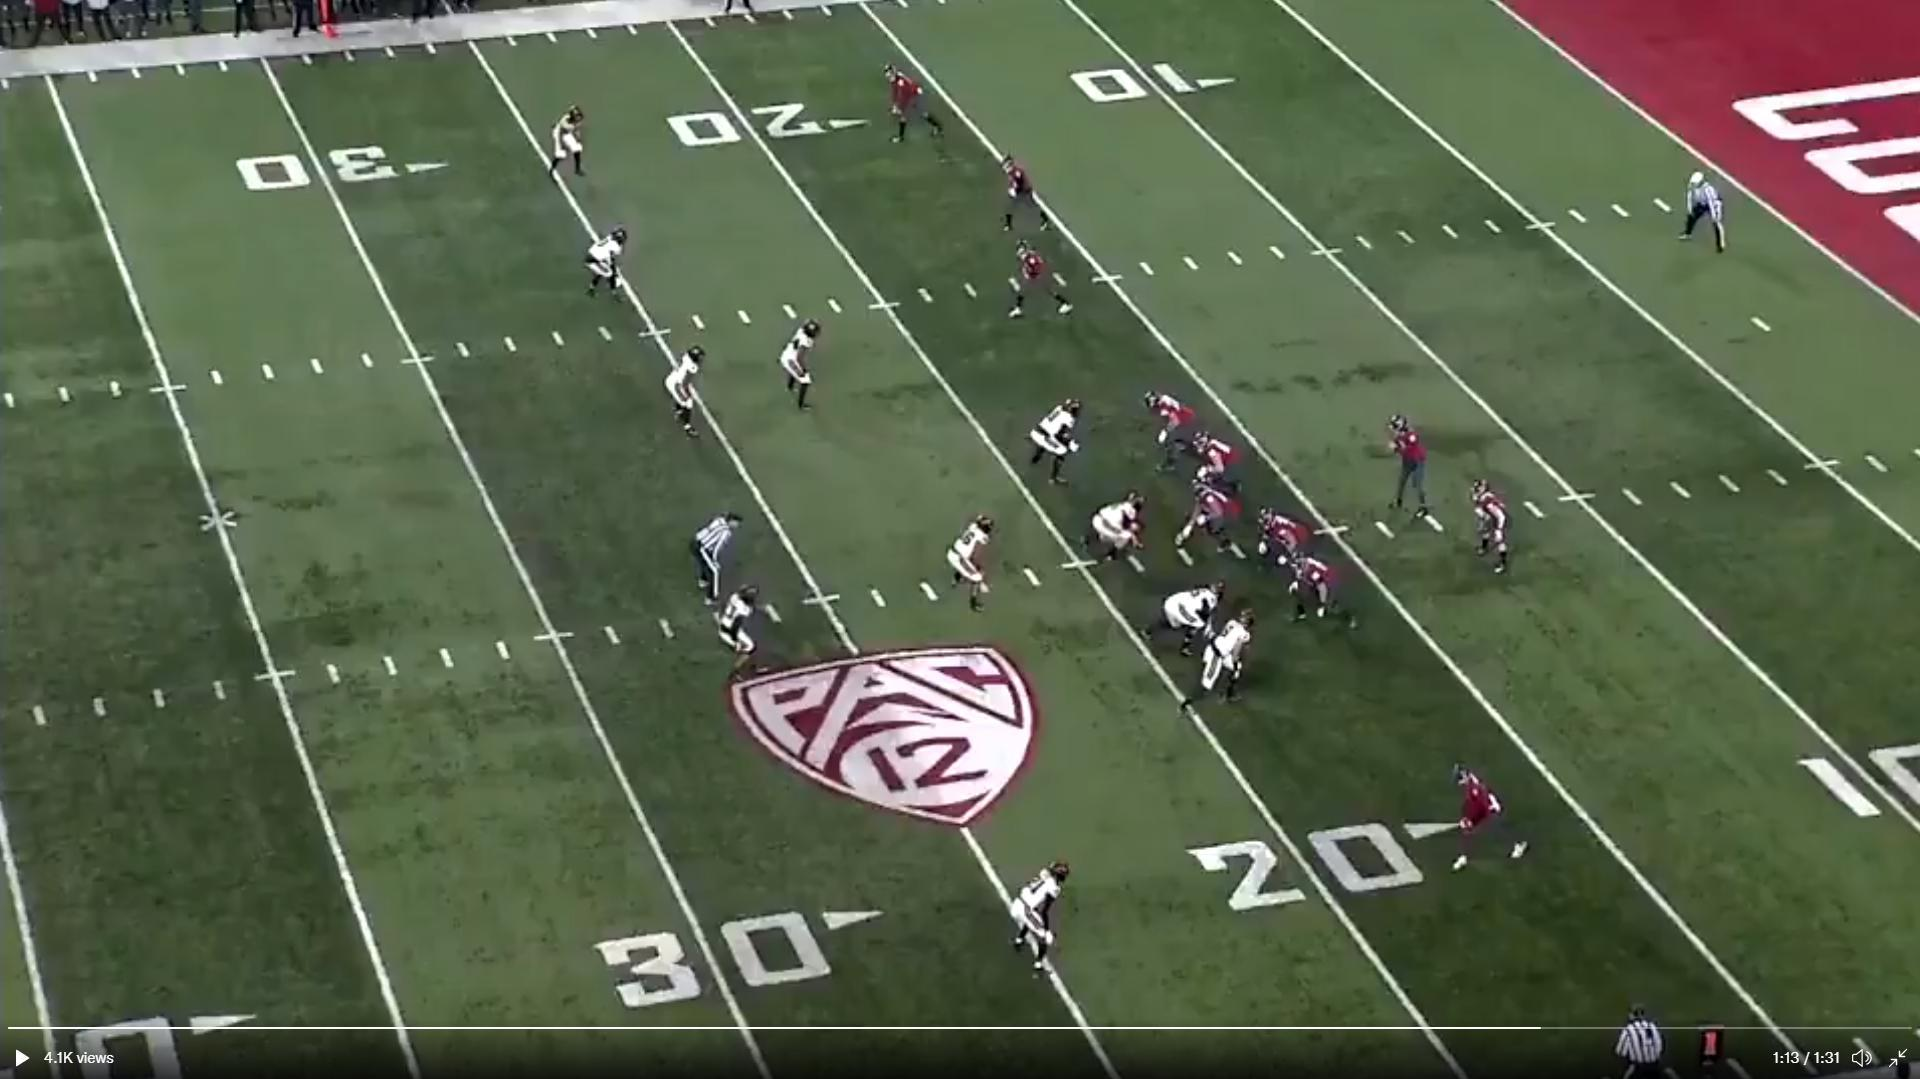player: (1446, 761, 1533, 876), (1009, 854, 1079, 977), (1184, 607, 1262, 715), (1384, 410, 1441, 537), (1146, 579, 1231, 654), (1006, 242, 1080, 327), (1076, 494, 1148, 575), (1027, 399, 1091, 490), (1175, 477, 1240, 563), (947, 508, 999, 614), (999, 148, 1060, 237), (714, 581, 764, 689), (775, 315, 828, 416), (886, 64, 944, 152), (1470, 475, 1515, 581), (1283, 549, 1345, 625), (1149, 386, 1207, 465), (1255, 504, 1318, 573), (1191, 424, 1249, 498), (545, 105, 591, 195), (588, 219, 637, 303), (664, 346, 706, 443)
ref: (1609, 1001, 1682, 1079), (693, 507, 746, 609), (1679, 168, 1733, 262), (713, 0, 766, 23)
